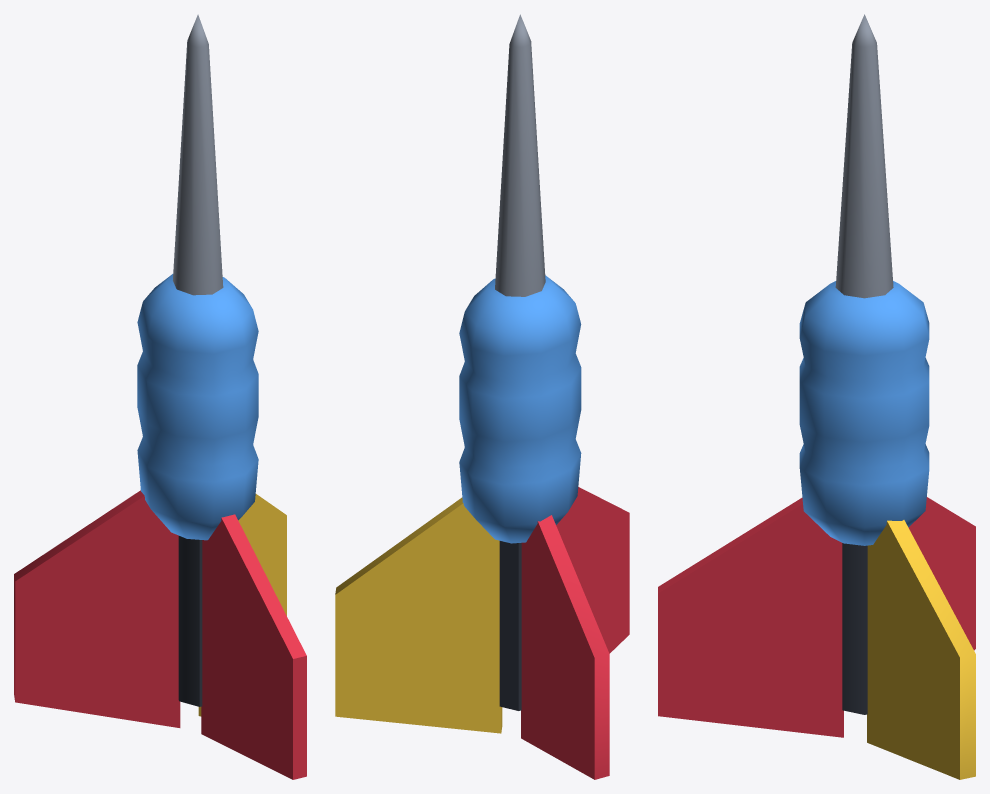
File: Darts.fbx
3 renders of one model, left to right at view 1: azimuth 30°, elevation 25°; view 2: azimuth 150°, elevation 25°; view 3: azimuth 270°, elevation 25°, orthographic.
Visible parts, largest first — view 1: Darts; view 2: Darts; view 3: Darts.
Part boxes in pixels (x1=…): Darts: x1=14, y1=14, x2=306, y2=779; Darts: x1=335, y1=14, x2=629, y2=779; Darts: x1=658, y1=14, x2=975, y2=779.
Size of the model in its own units: 0.04 by 0.1 by 0.04.
